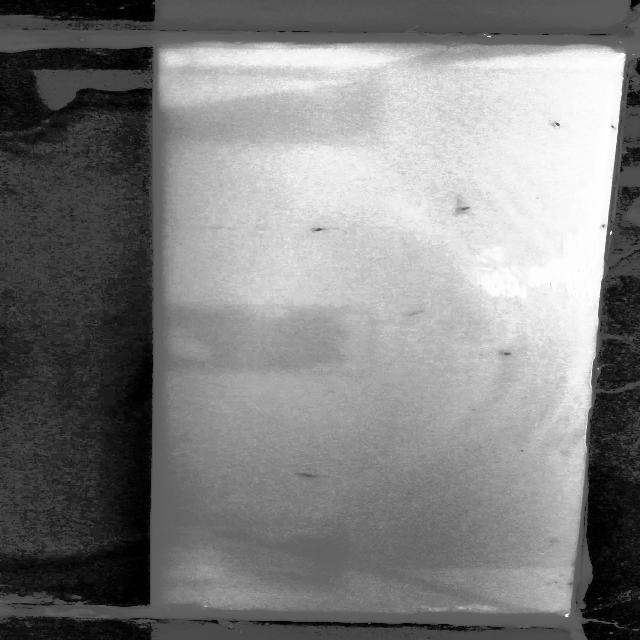shrimp: (494, 345, 516, 360), (545, 118, 567, 129), (294, 471, 318, 479), (306, 224, 324, 234)
